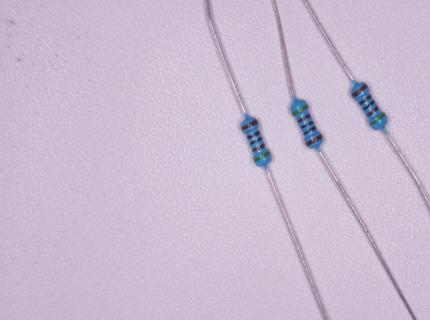Black band: (362, 100, 375, 111), (359, 94, 371, 105), (247, 130, 260, 140), (304, 126, 316, 135), (301, 121, 314, 129), (250, 137, 262, 145)
Brown band: (351, 84, 368, 98), (242, 119, 259, 131), (306, 134, 323, 146), (366, 105, 380, 117), (251, 143, 267, 153), (296, 113, 311, 123)
Green band: (370, 112, 387, 126), (292, 104, 310, 117), (253, 151, 271, 163)
